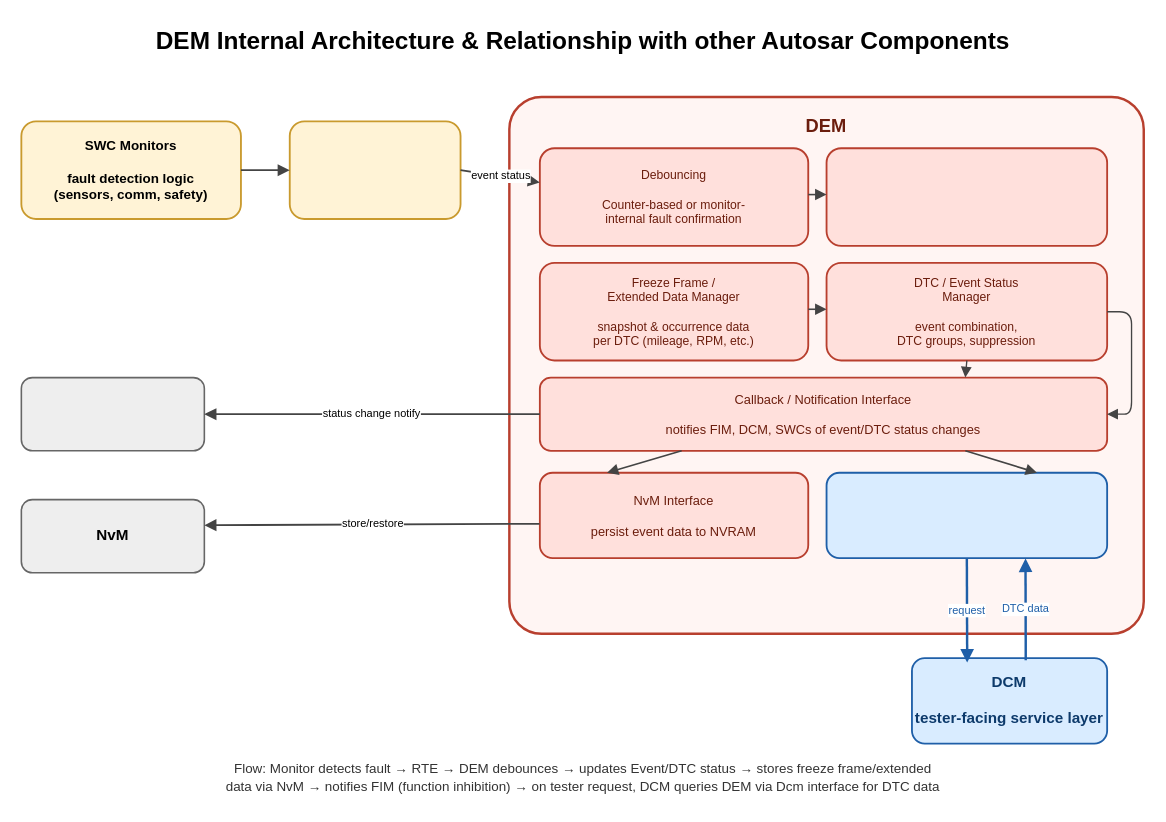
Image size: 1166x822. Some labels were removed from this diagram. Each missing label, with the centre of its shape:
"Dcm Interface serves DTC/status/freeze-frame reads" goes at (966,515).
"Event Memory Manager DTC status bits, priority, aging / healing cycles" goes at (966,196).
"FIM" goes at (112,413).
"RTE Dem_SetEventStatus / Dem_ReportErrorStatus" goes at (374,169).
